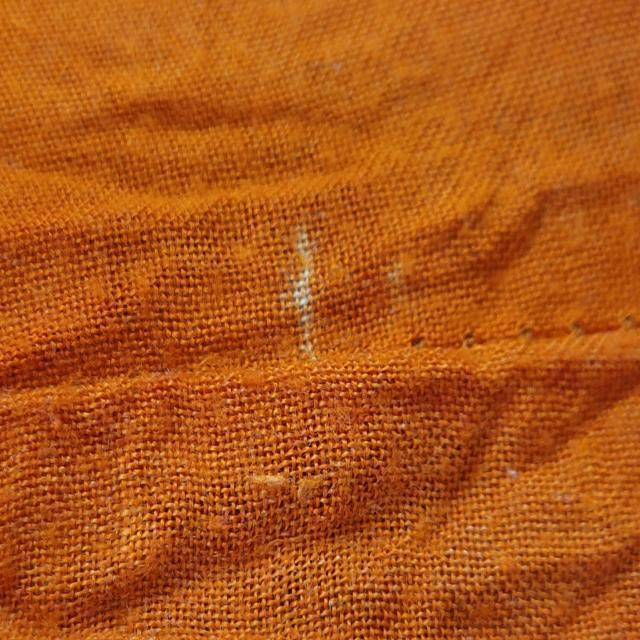stain: (292, 225, 314, 355)
